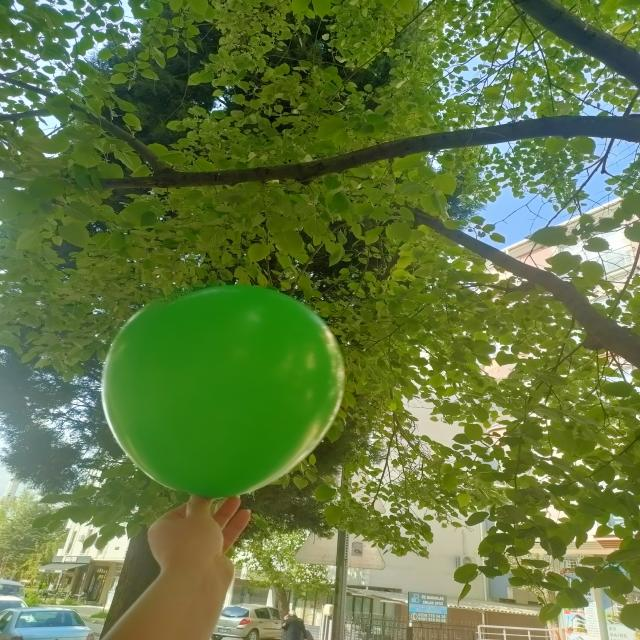green: (106, 286, 346, 503)
